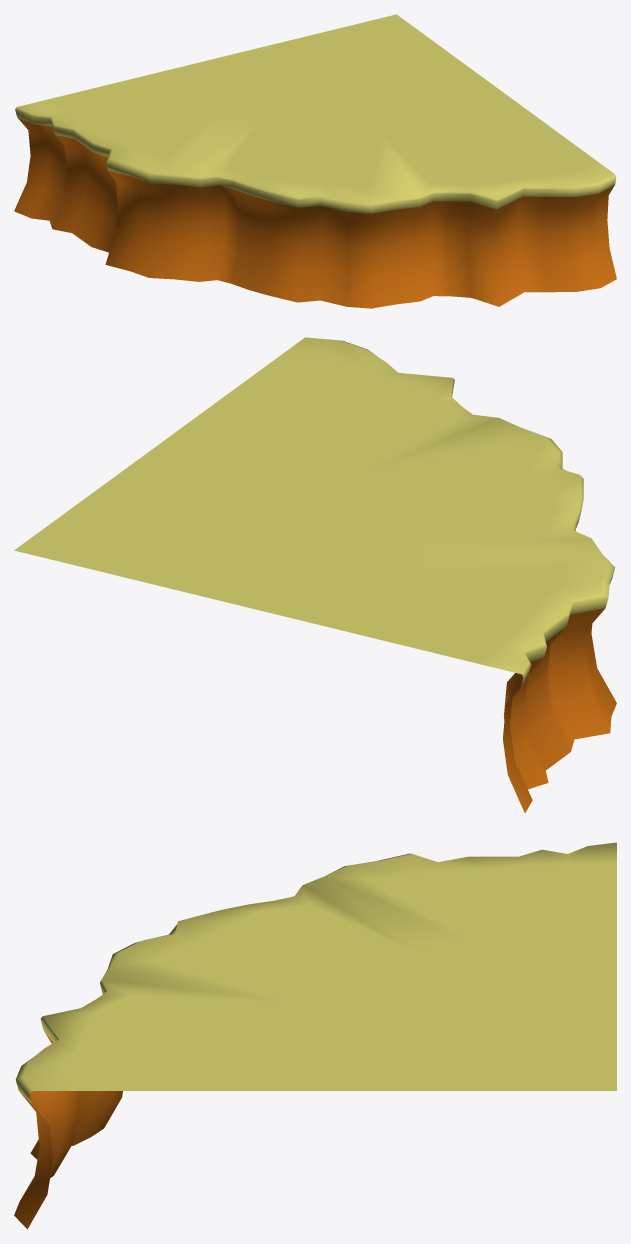
File: ground_01.fbx
3 views of the same model, one above another, from view 1: azimuth 30°, elevation 25°; view 2: azimuth 150°, elevation 25°; view 3: azimuth 270°, elevation 25° (orthographic). The views are drawn at different scales.
Visible parts, largest first — view 1: floor_tille.000; view 2: floor_tille.000; view 3: floor_tille.000.
Boxes of the visible parts, <box> form: floor_tille.000: <box>14,14,616,308</box>; floor_tille.000: <box>14,337,616,812</box>; floor_tille.000: <box>14,842,616,1229</box>.
Size of the model in its own units: 3552 by 919 by 3624.
